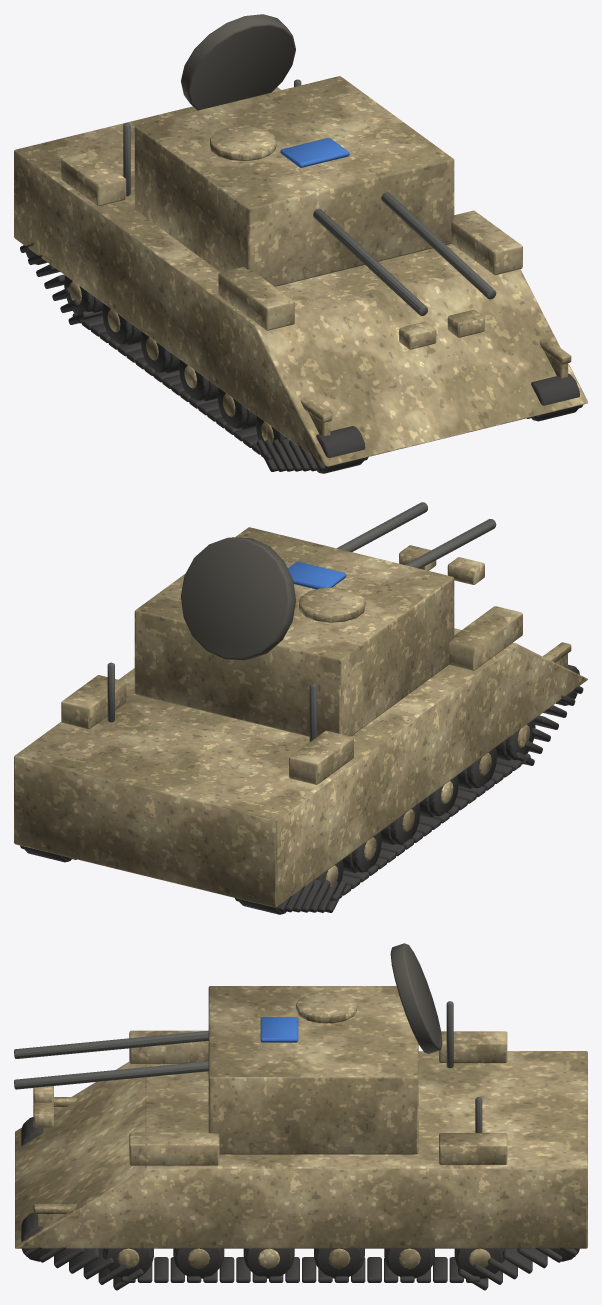
File: aad_e4_us_spaag_LOD0.glb
3 views of the same model, one above another, from view 1: azimuth 30°, elevation 25°; view 2: azimuth 150°, elevation 25°; view 3: azimuth 270°, elevation 25° (orthographic). The views are drawn at different scales.
Parts seen in each view (by area): view 1: aad_e4_us_spaag_LOD0_body, aad_e4_us_spaag_LOD0_track, aad_e4_us_spaag_LOD0_deck, aad_e4_us_spaag_LOD0_gun, aad_e4_us_spaag_LOD0_team; view 2: aad_e4_us_spaag_LOD0_body, aad_e4_us_spaag_LOD0_deck, aad_e4_us_spaag_LOD0_track, aad_e4_us_spaag_LOD0_gun, aad_e4_us_spaag_LOD0_team; view 3: aad_e4_us_spaag_LOD0_body, aad_e4_us_spaag_LOD0_track, aad_e4_us_spaag_LOD0_gun, aad_e4_us_spaag_LOD0_deck, aad_e4_us_spaag_LOD0_team.
Part boxes in pixels (x1,y1,x2,y2): aad_e4_us_spaag_LOD0_body: [14, 76, 587, 466]; aad_e4_us_spaag_LOD0_track: [20, 242, 582, 473]; aad_e4_us_spaag_LOD0_deck: [181, 14, 295, 110]; aad_e4_us_spaag_LOD0_gun: [123, 79, 496, 315]; aad_e4_us_spaag_LOD0_team: [280, 138, 349, 167]; aad_e4_us_spaag_LOD0_body: [14, 527, 587, 907]; aad_e4_us_spaag_LOD0_deck: [181, 537, 295, 659]; aad_e4_us_spaag_LOD0_track: [20, 664, 583, 914]; aad_e4_us_spaag_LOD0_gun: [107, 502, 496, 741]; aad_e4_us_spaag_LOD0_team: [288, 561, 346, 589]; aad_e4_us_spaag_LOD0_body: [15, 986, 587, 1268]; aad_e4_us_spaag_LOD0_track: [21, 1117, 579, 1290]; aad_e4_us_spaag_LOD0_gun: [14, 1001, 482, 1132]; aad_e4_us_spaag_LOD0_deck: [390, 943, 442, 1053]; aad_e4_us_spaag_LOD0_team: [260, 1017, 298, 1042].
Bounding box in the file's own units: 3.25 × 3.65 × 6.7.
5 materials, 1 textured.
